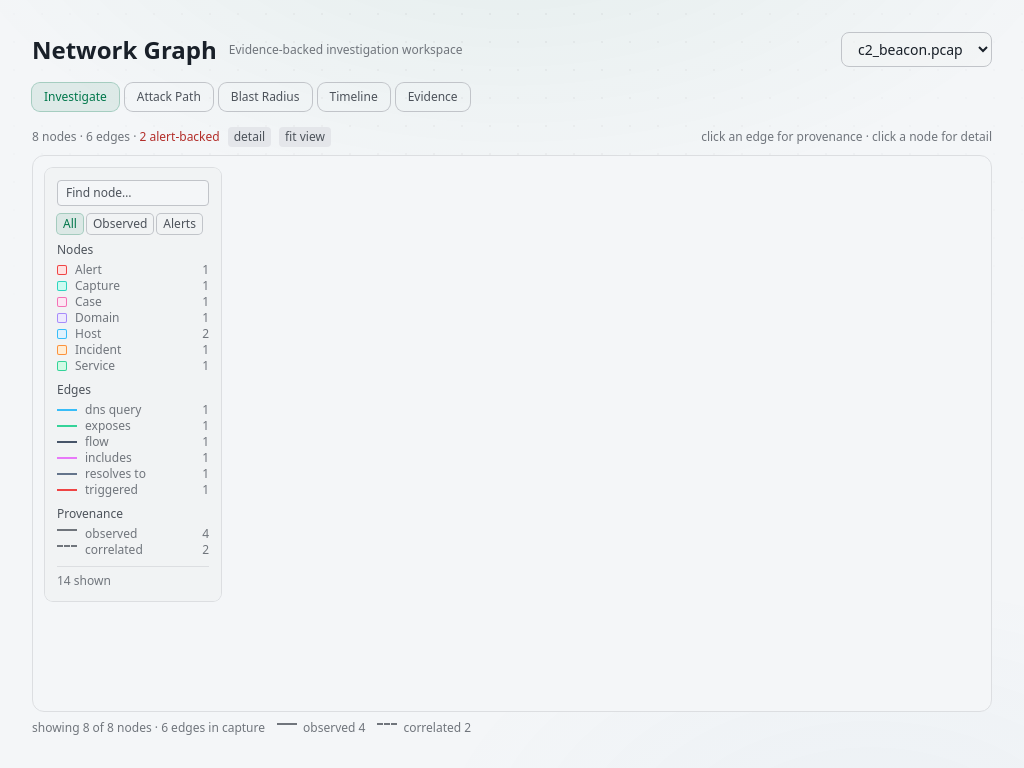
GraphPage — investigation workspace › Investigate filter rail › toggles a relationship filter off (excludes those edges from shown count)
The width and height of the screenshot is (1024, 768).
Check: the text "14 shown" is shown, box [57,566,209,589]
Click the text "flow": (97, 442) [85,433,109,450]
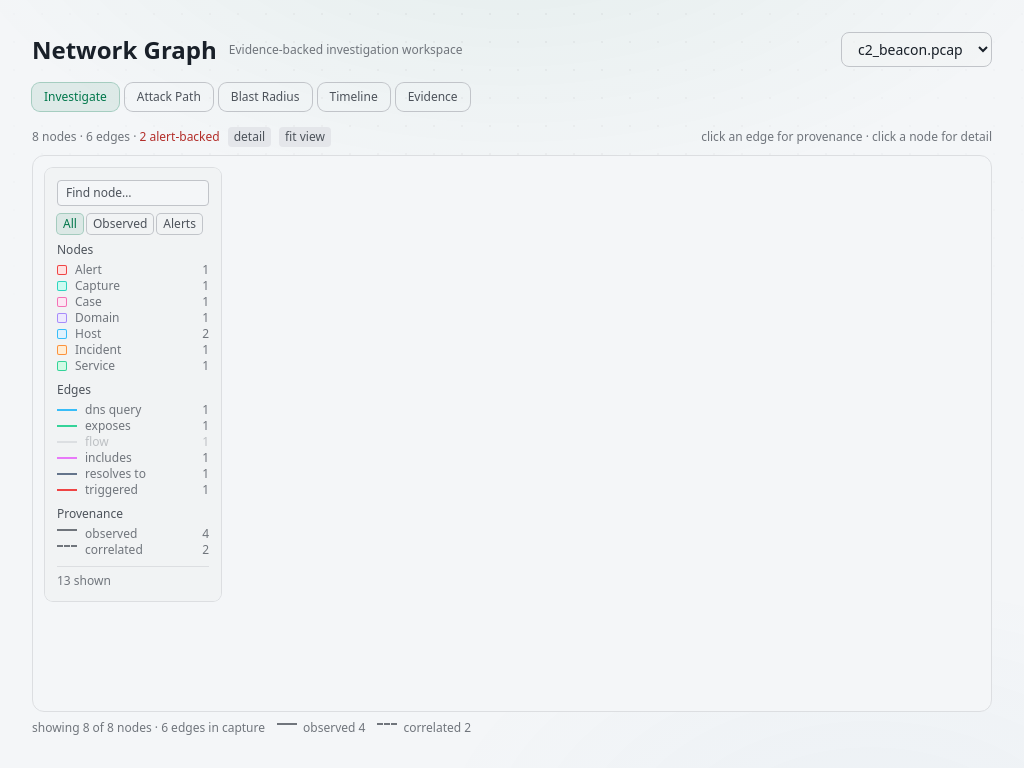
Check: the text "13 shown" is shown, box [57,566,209,589]
